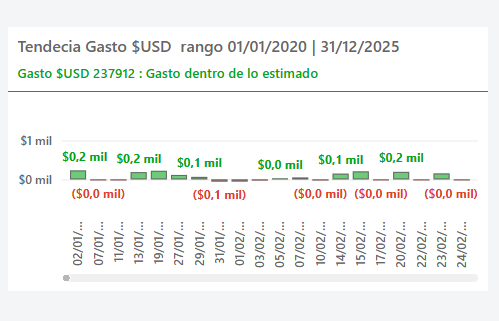

The dashboard page shown, as its layout file describes it:
{"tool":"powerbi","page":{"name":"Tooltip_Gasto","canvas":[500,340],"ordinal":3},"visuals":[{"type":"clusteredColumnChart","fields":{"Y":["Medidas.Gasto"],"Category":["dim_calendario.Date.Variación.Jerarquía de fechas.Mes","dim_calendario.Date.Variación.Jerarquía de fechas.Año"]},"box":[8,32,480,264],"z":0}]}

Visuals, with their boxes on the page's 500x340 design canvas (x1, y1, x2, y2). These are canvas units, not pixel positions in the 499x321 screenshot, which may show the page scaled, cropped or inside an application window:
clusteredColumnChart - Medidas.Gasto x dim_calendario.Date.Variación.Jerarquía de fechas.Mes: bbox(8, 32, 488, 296)
